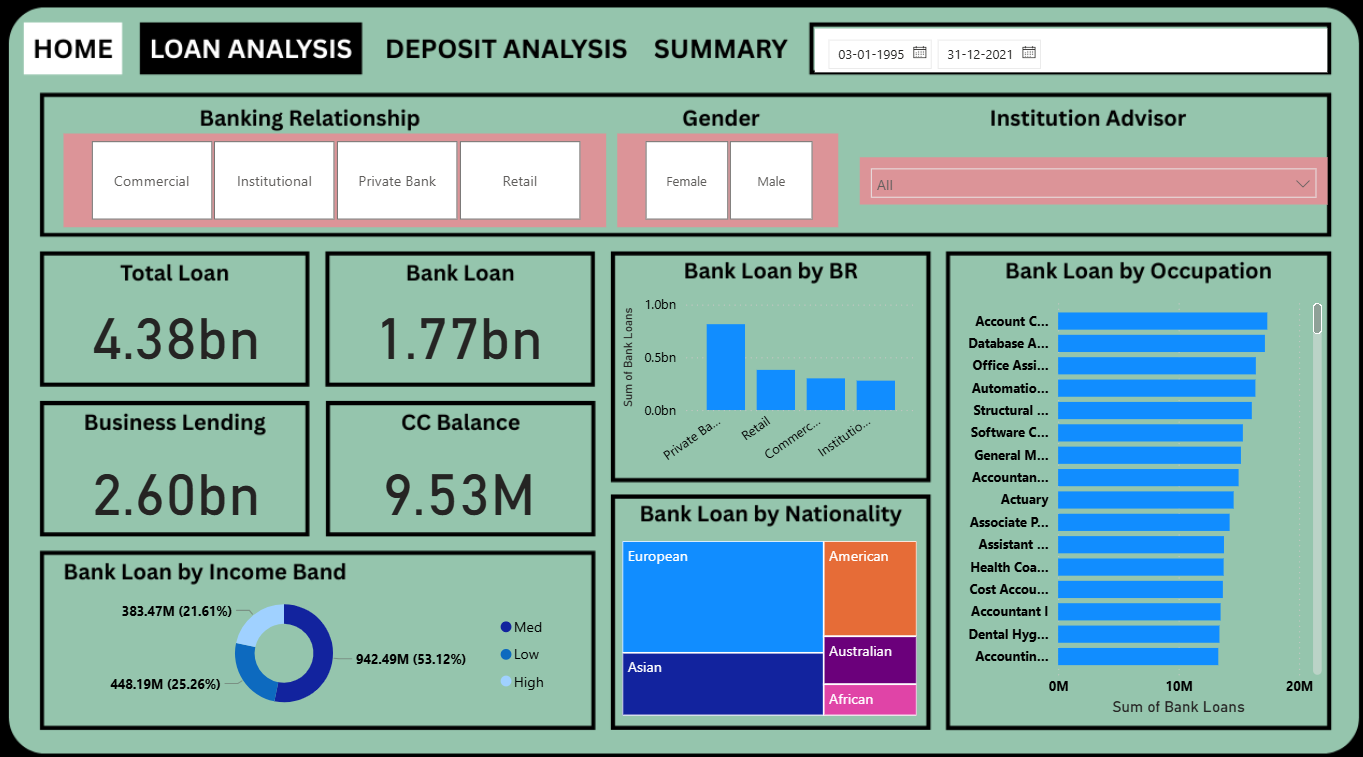

The page's visual inventory and layout, read from the dashboard file:
{"tool":"powerbi","page":{"name":"Loan Analysis","canvas":[1280,720],"ordinal":1},"visuals":[{"type":"slicer","fields":{"Values":["Banking.Joined Bank"]},"box":[761.6,30.2,477,41.2],"z":0},{"type":"card","fields":{"Values":["Banking.Total Loan"]},"box":[63.1,273.1,209.9,76.8],"z":1000},{"type":"card","fields":{"Values":["Sum(Banking.Bank Loans)"]},"box":[325.2,273.1,209.9,76.8],"z":2000},{"type":"card","fields":{"Values":["Sum(Banking.Business Lending)"]},"box":[63.1,418.5,209.9,76.8],"z":3000},{"type":"card","fields":{"Values":["Sum(Banking.Credit Card Balance)"]},"box":[325.2,418.5,209.9,76.8],"z":4000},{"type":"donutChart","fields":{"Category":["Banking.Income Band"],"Y":["Sum(Banking.Bank Loans)"]},"box":[62.8,548.8,461.6,125.6],"z":5000},{"type":"columnChart","fields":{"Category":["Banking.BRId"],"Y":["Sum(Banking.Bank Loans)"]},"box":[577.9,273.3,283.7,172.1],"z":6000},{"type":"treemap","fields":{"Group":["Banking.Nationality"],"Values":["Sum(Banking.Bank Loans)"]},"box":[577.9,502.3,283.7,172.1],"z":7000},{"type":"barChart","fields":{"Category":["Banking.Occupation"],"Y":["Sum(Banking.Bank Loans)"]},"box":[887.2,273.3,351.2,401.2],"z":8000},{"type":"slicer","fields":{"Values":["Banking.BRId"]},"box":[62.8,127.9,504.7,87.2],"z":9000},{"type":"slicer","fields":{"Values":["Banking.GenderId"]},"box":[577.9,127.9,205.8,87.2],"z":10000},{"type":"slicer","fields":{"Values":["Banking.IAId"]},"box":[803.5,150,434.9,44.2],"z":11000},{"type":"actionButton","box":[26.7,25.6,88.4,45.3],"z":12000},{"type":"actionButton","box":[358.1,25.6,232.6,45.3],"z":13000},{"type":"actionButton","box":[607,27.9,134.9,45.3],"z":14000}]}

Visuals, with their boxes in screenshot pixels (x1, y1, x2, y2), scaled from the page's 1280x720 canvas onto the 1363x757 screenshot:
slicer - Banking.Joined Bank: (811, 32, 1319, 75)
card - Banking.Total Loan: (67, 287, 291, 368)
card - Sum(Banking.Bank Loans): (346, 287, 570, 368)
card - Sum(Banking.Business Lending): (67, 440, 291, 521)
card - Sum(Banking.Credit Card Balance): (346, 440, 570, 521)
donutChart - Banking.Income Band x Sum(Banking.Bank Loans): (67, 577, 558, 709)
columnChart - Banking.BRId x Sum(Banking.Bank Loans): (615, 287, 917, 468)
treemap - Banking.Nationality x Sum(Banking.Bank Loans): (615, 528, 917, 709)
barChart - Banking.Occupation x Sum(Banking.Bank Loans): (945, 287, 1319, 709)
slicer - Banking.BRId: (67, 134, 604, 226)
slicer - Banking.GenderId: (615, 134, 835, 226)
slicer - Banking.IAId: (856, 158, 1319, 204)
actionButton: (28, 27, 123, 75)
actionButton: (381, 27, 629, 75)
actionButton: (646, 29, 790, 77)
